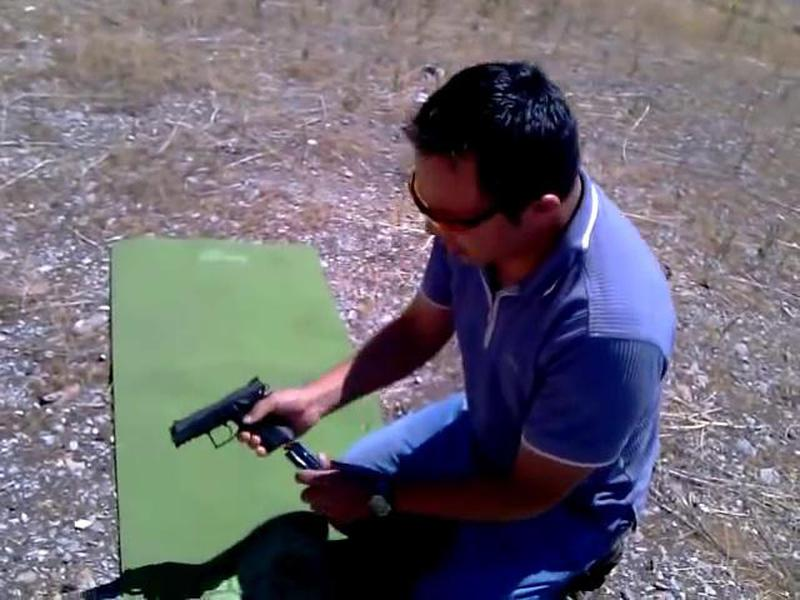Pistola: (157, 367, 308, 481)
